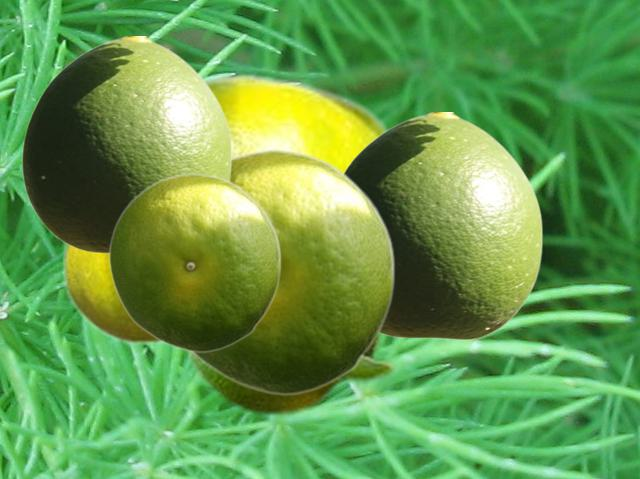dalandan: (190, 148, 394, 395), (21, 36, 231, 254), (344, 112, 542, 339), (108, 172, 280, 352), (182, 326, 397, 416), (201, 72, 391, 170), (61, 242, 163, 345)
